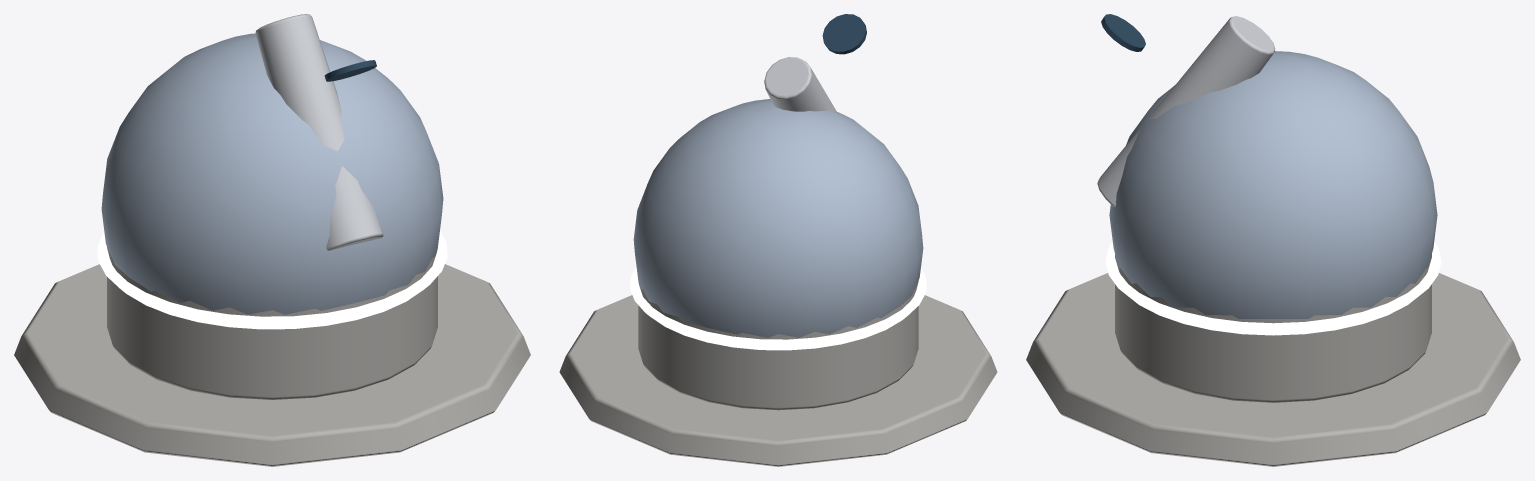
Rendered from observatory.glb.
3 renders of one model, left to right at view 1: azimuth 30°, elevation 25°; view 2: azimuth 150°, elevation 25°; view 3: azimuth 270°, elevation 25°, orthographic. The views are drawn at different scales.
Parts seen in each view (by area): view 1: observatory; view 2: observatory; view 3: observatory.
Boxes of the visible parts, x1,y1,x2,y2 form: observatory: (14, 14, 530, 466); observatory: (559, 14, 997, 466); observatory: (1026, 14, 1520, 466).
Bounding box in the file's own units: 0.8747 × 0.6749 × 0.8747.
